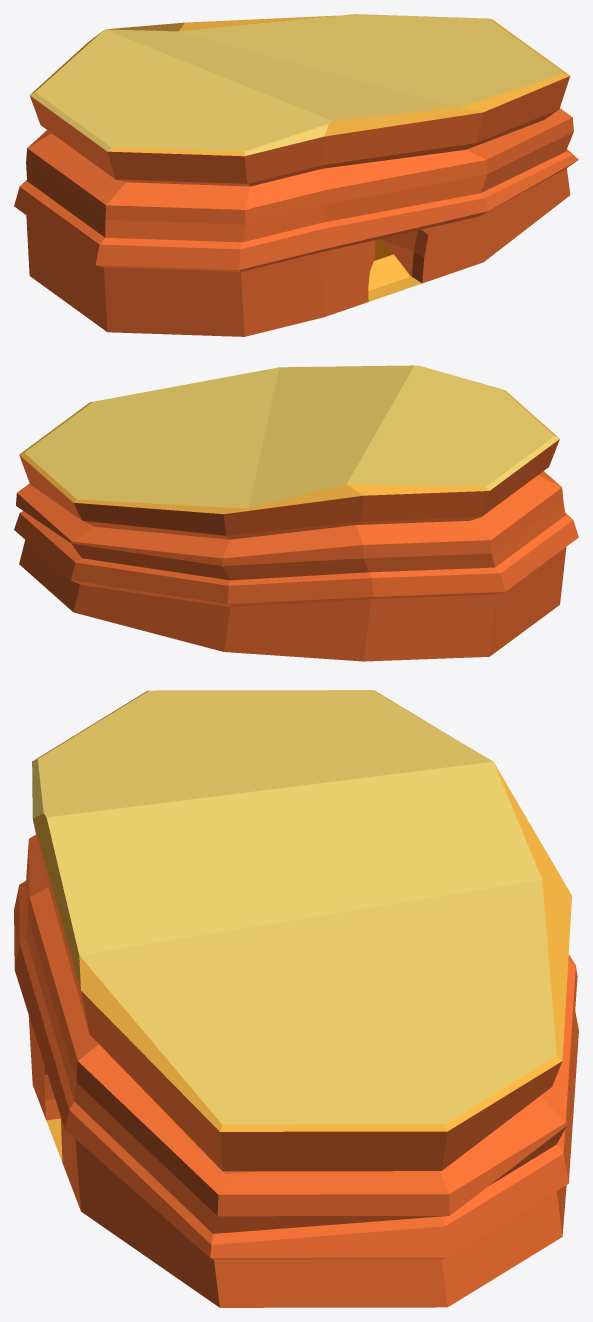
3 renders of one model, top to bottom at view 1: azimuth 30°, elevation 25°; view 2: azimuth 150°, elevation 25°; view 3: azimuth 270°, elevation 25°, orthographic. The views are drawn at different scales.
Parts seen in each view (by area): view 1: Plane Main.004; view 2: Plane Main.004; view 3: Plane Main.004.
Boxes of the visible parts, bbox=[...] form: Plane Main.004: bbox=[14, 14, 578, 336]; Plane Main.004: bbox=[14, 365, 578, 661]; Plane Main.004: bbox=[14, 690, 578, 1307].
Size of the model in its own units: 815 by 290 by 531.
